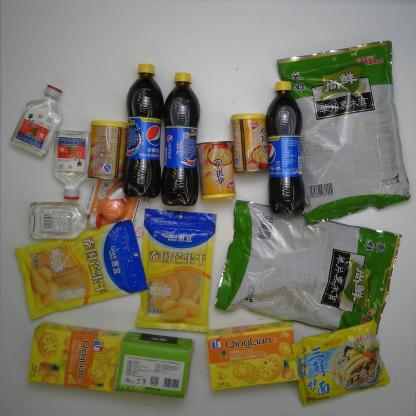Alcohol: (11, 85, 63, 157), (53, 128, 90, 200), (31, 201, 101, 239)
Canned Food: (87, 119, 128, 181), (230, 113, 270, 172), (197, 141, 236, 200)
Dessert: (28, 320, 124, 394), (204, 321, 300, 390)
Dried Food: (214, 200, 401, 342), (277, 40, 411, 224)
Dried Fruit: (14, 219, 148, 321), (134, 208, 217, 333)
Drink: (265, 81, 306, 215), (124, 64, 164, 198), (161, 73, 199, 206)
Instant Noodles: (292, 318, 390, 406)
Stationery: (81, 159, 149, 237)
Tissue: (115, 330, 196, 399)
